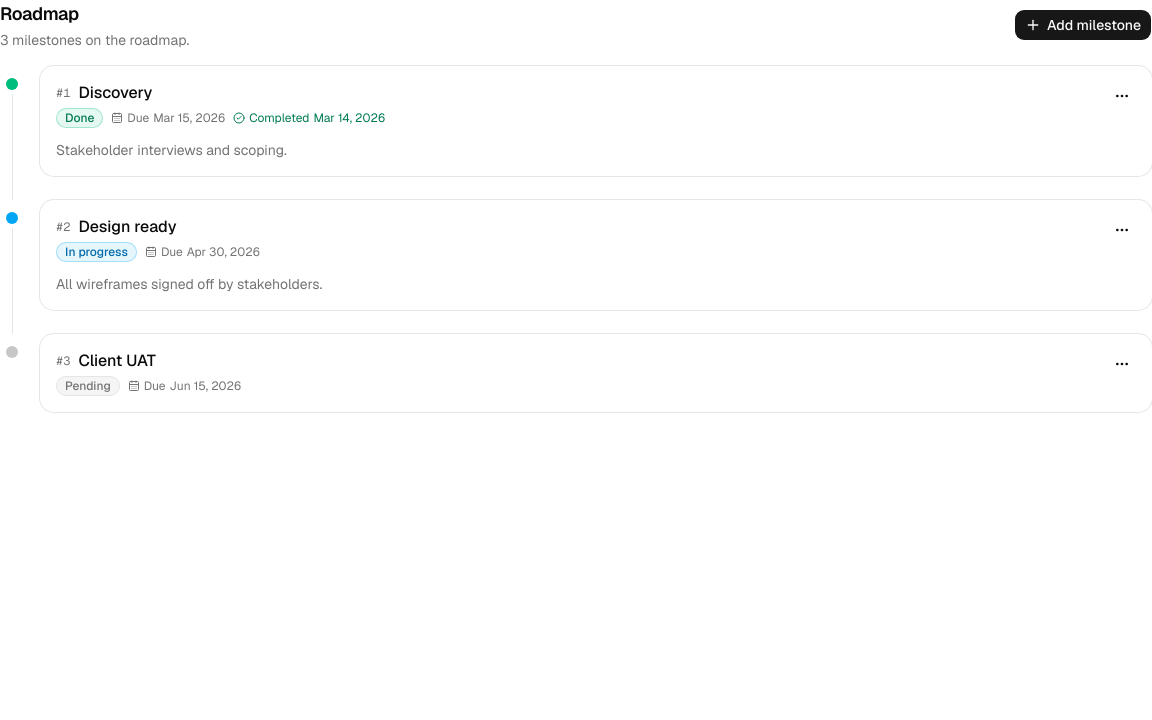
it: ProjectMilestonesSection › creates a milestone and adds it to the list
Click the button "Add milestone".
click(1083, 25)  # box [1014,9,1151,41]
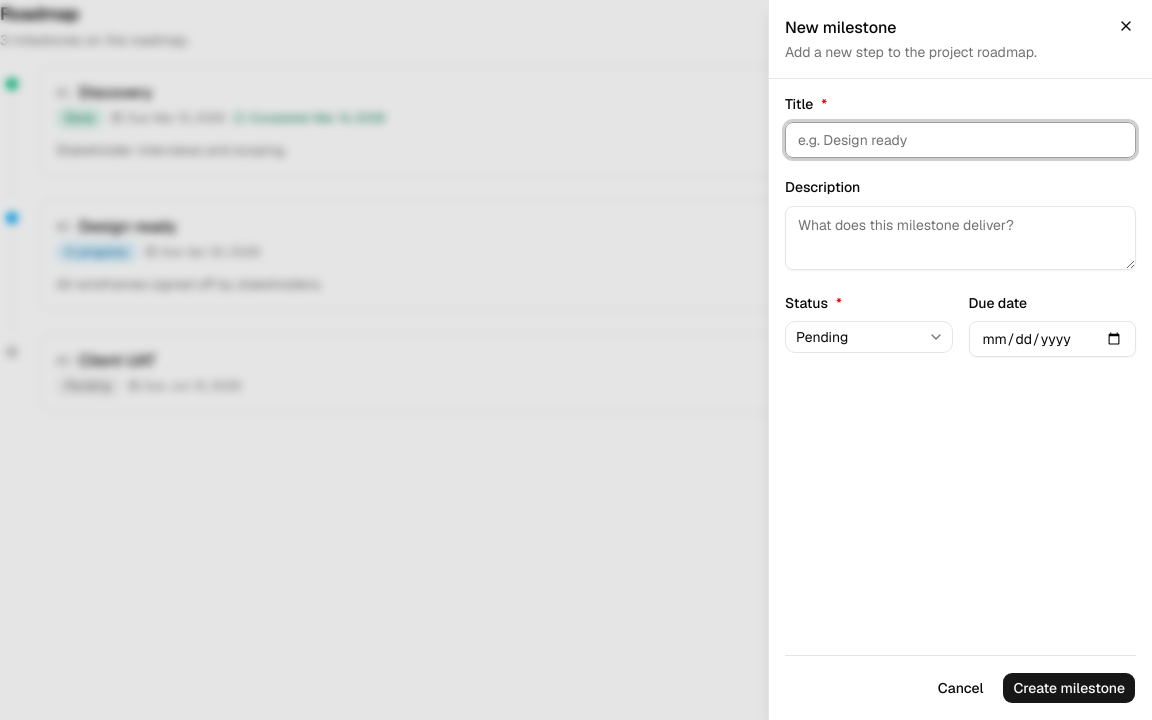
Type "Beta launch" into the field labelled "Title *".
click(960, 140); type("Beta launch")  # box [785,122,1136,158]
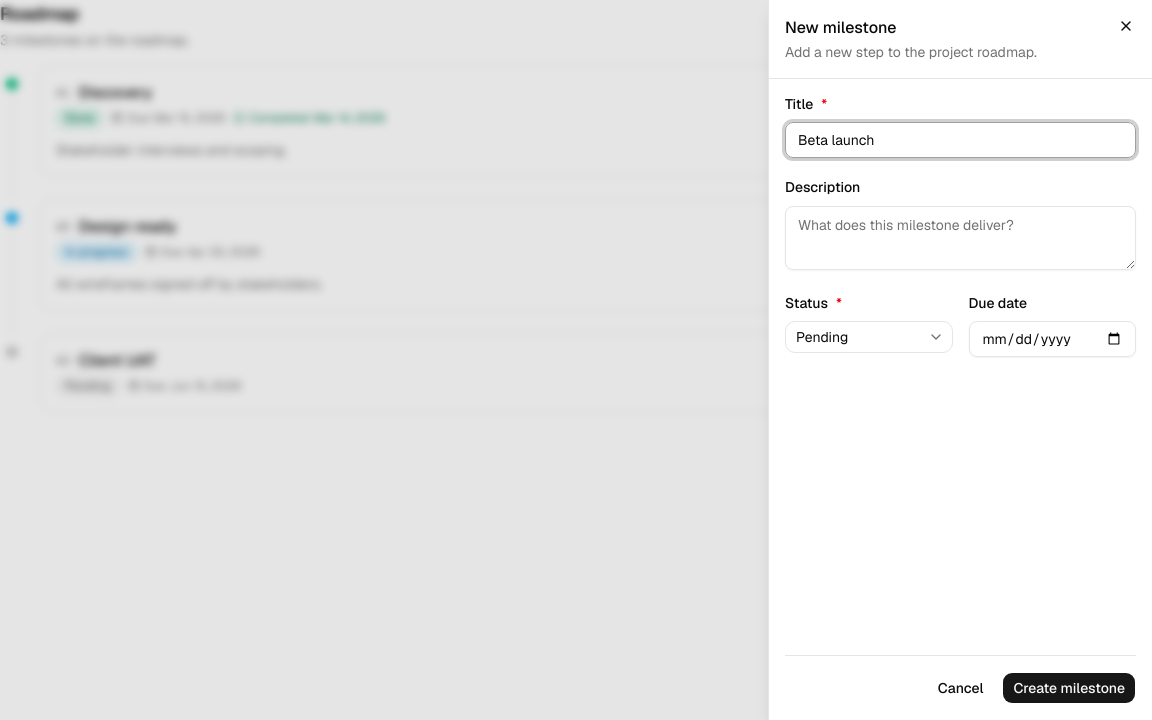
Click the button "Create milestone".
click(1069, 688)  # box [1002,672,1136,704]
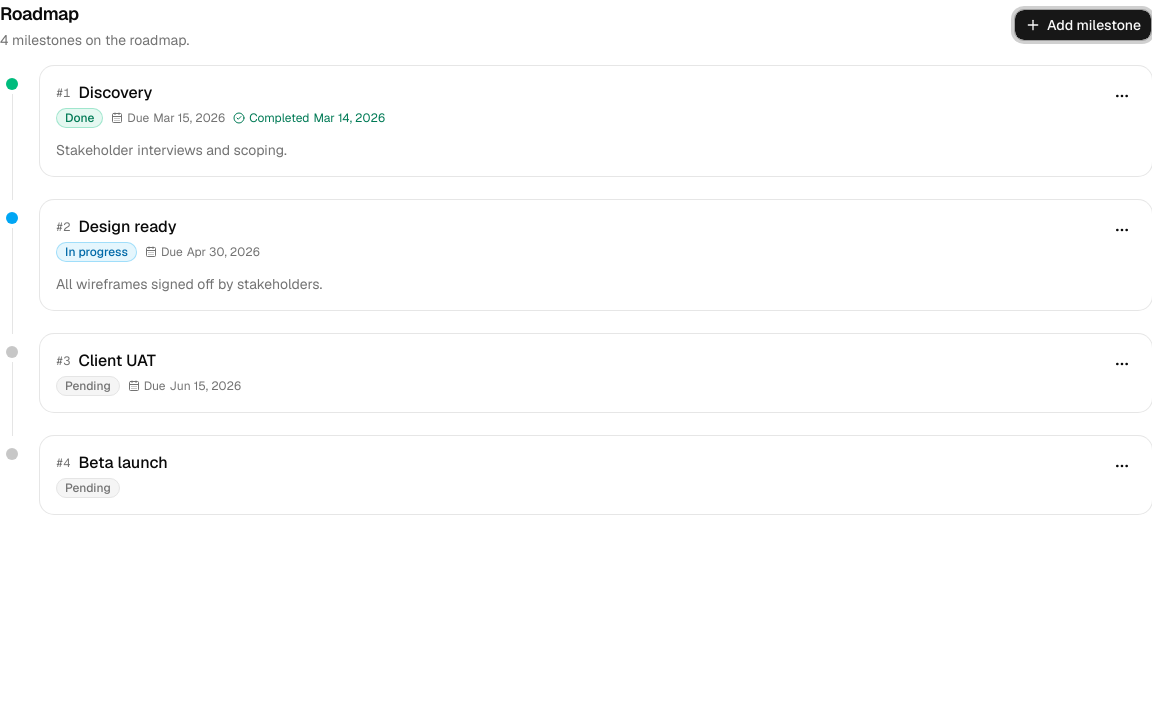
Expected: the heading "Beta launch" is shown, [78,452,168,474]
Expected: the text "4 milestones on the roadmap." is shown, [0,30,189,50]
